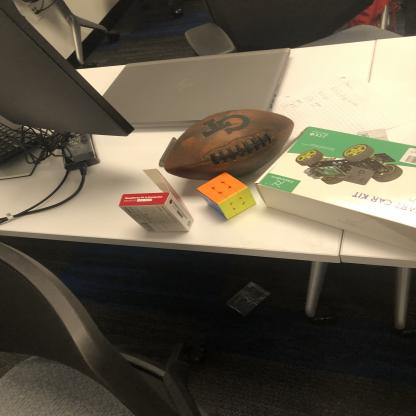SolvedCube: (196, 168, 257, 220)
